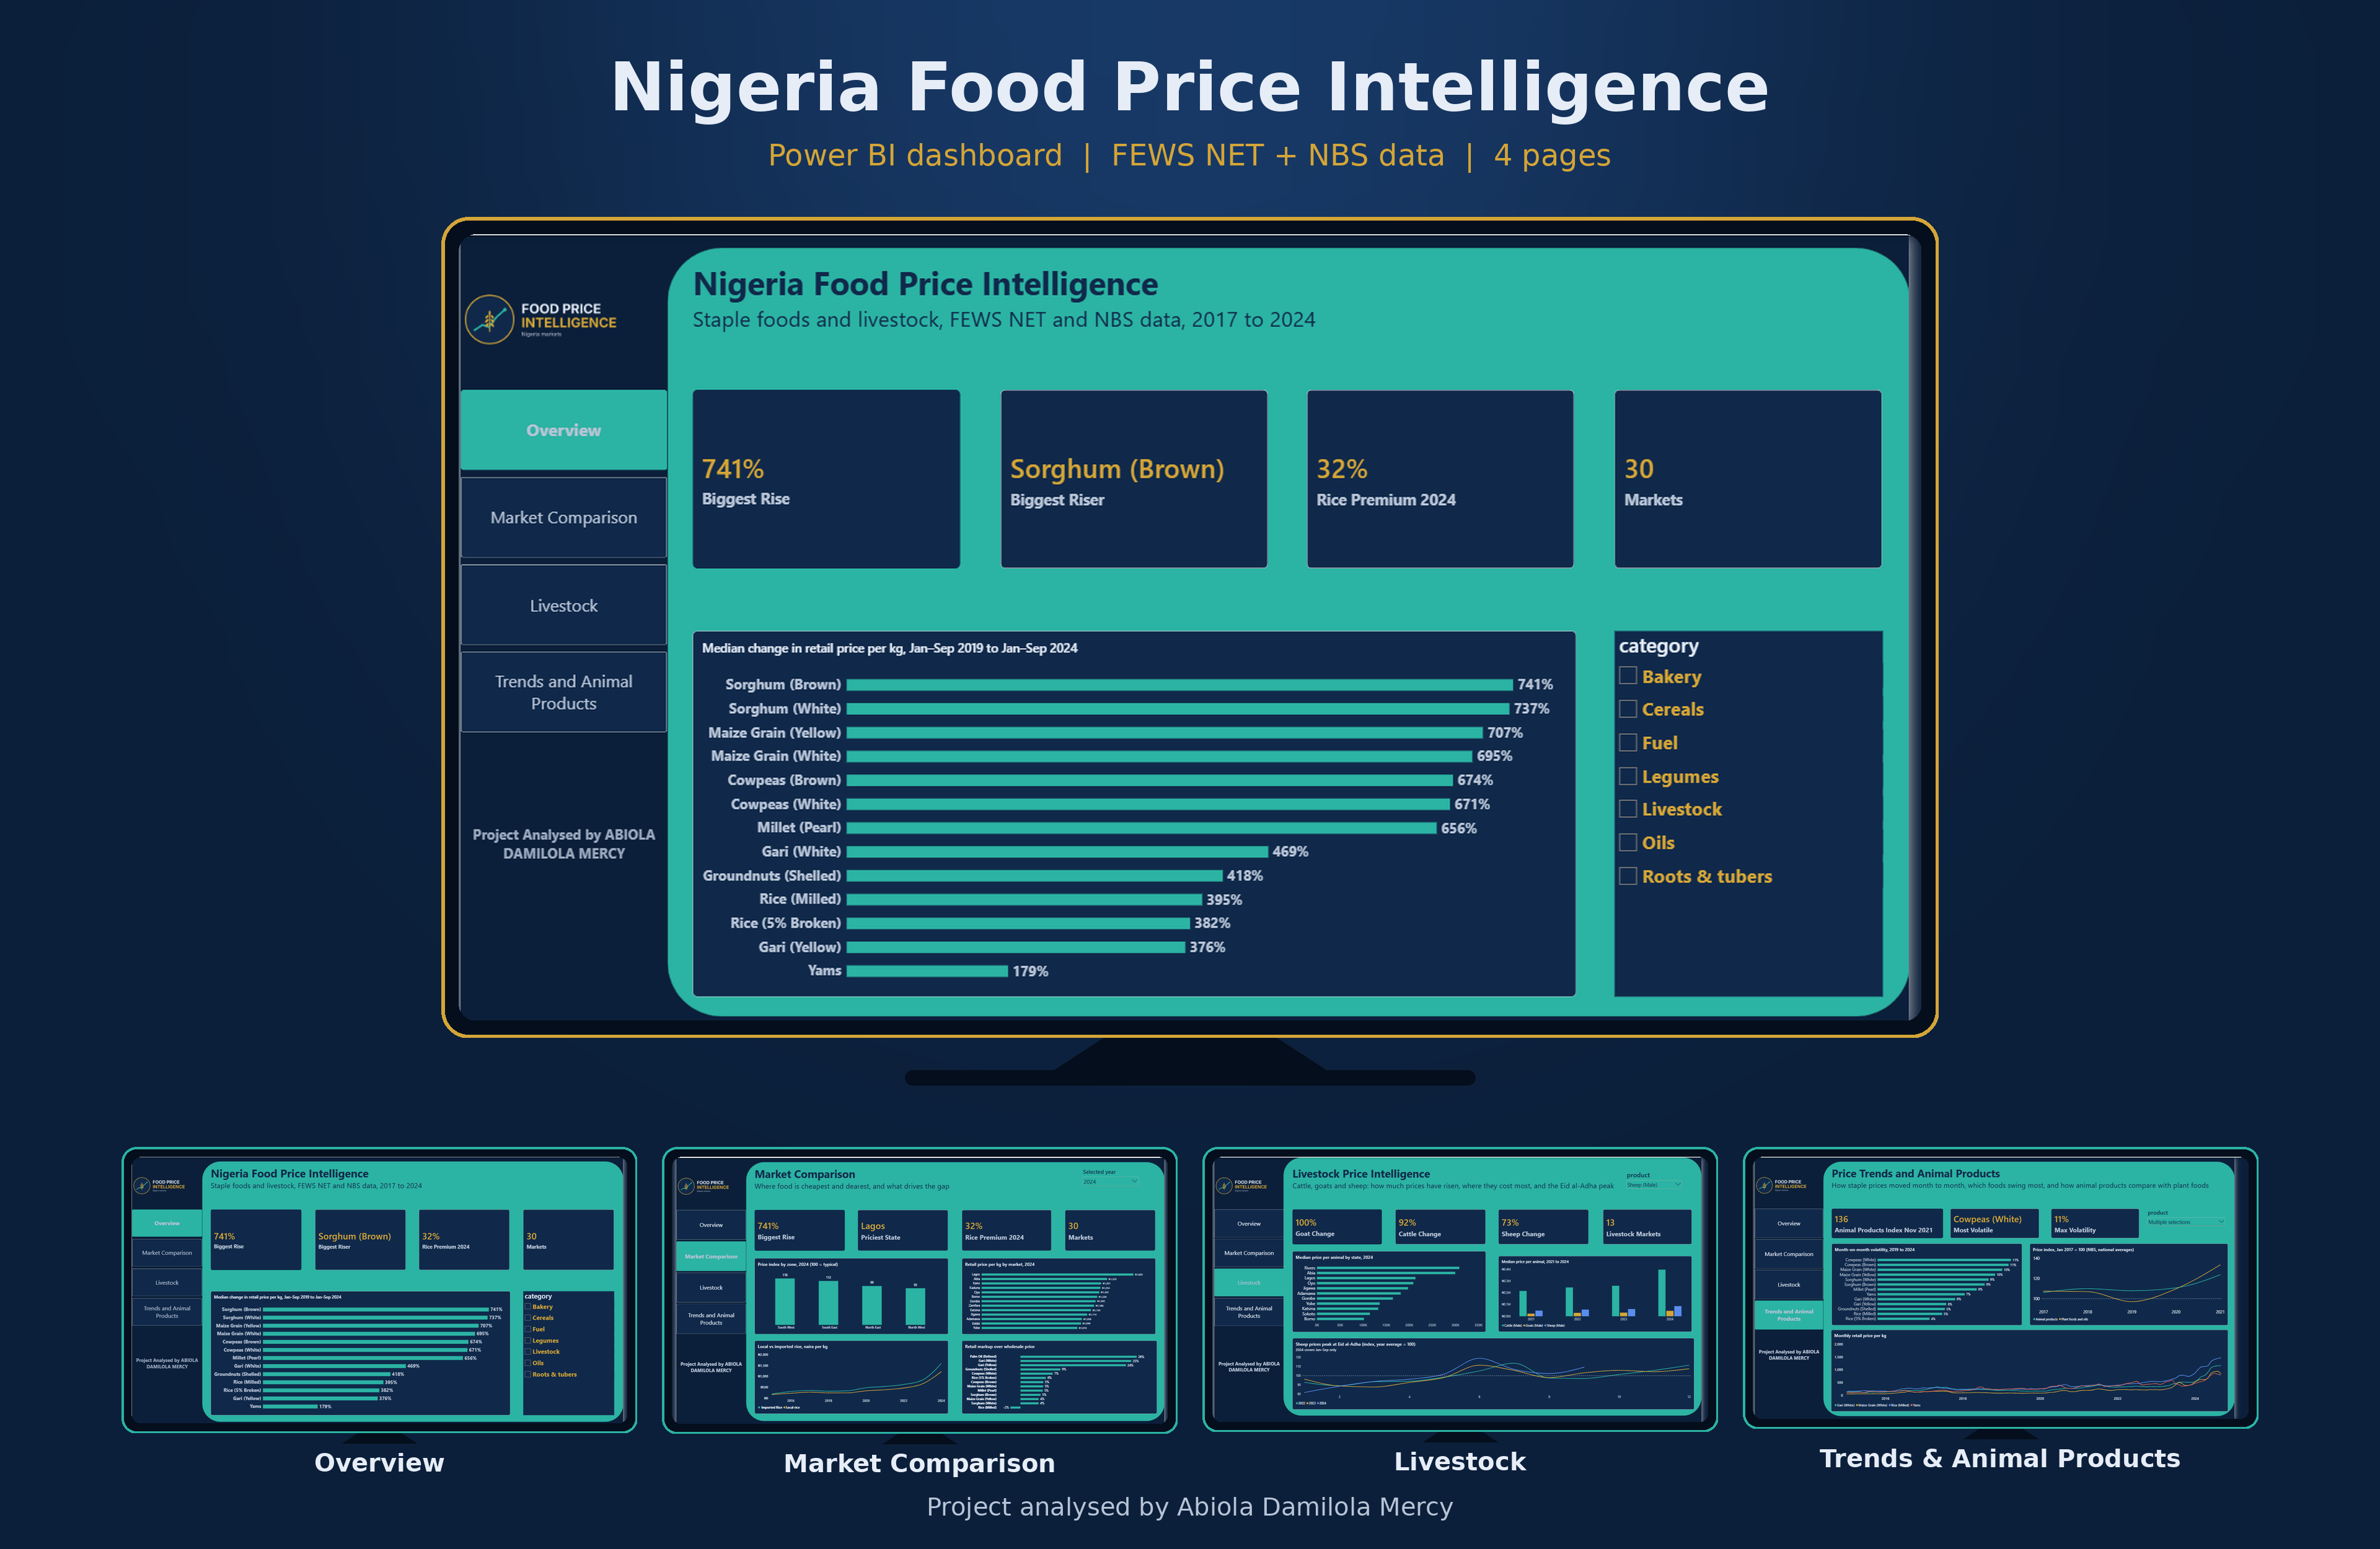

The page's visual inventory and layout, read from the dashboard file:
{"tool":"powerbi","page":{"name":"Overview","canvas":[2520,1380],"ordinal":0},"visuals":[{"type":"shape","box":[359.7,21.3,2161.5,1338.4],"z":0},{"type":"textbox","box":[403.6,44.4,2077.5,181.5],"z":1000},{"type":"clusteredBarChart","title":"Median change in retail price per kg, Jan–Sep 2019 to Jan–Sep 2024","fields":{"Category":["public bi_price_change.product"],"Y":["Sum(public bi_price_change.median_change)"]},"box":[403.6,688.8,1536.8,636.9],"z":2000},{"type":"cardVisual","title":"Biggest rise","fields":{"Data":["FEWS_Prices.Biggest Rise"]},"box":[403.6,270.3,465,311],"z":3000},{"type":"cardVisual","fields":{"Data":["FEWS_Prices.Biggest Riser"]},"box":[938.1,270.3,465,311.1],"z":4000},{"type":"cardVisual","fields":{"Data":["FEWS_Prices.Rice Premium 2024"]},"box":[1472.6,270.3,465,311.1],"z":5000},{"type":"cardVisual","fields":{"Data":["FEWS_Prices.Markets"]},"box":[2007.1,270.3,465,311.1],"z":6000},{"type":"slicer","fields":{"Values":["Dim_Product.category"]},"box":[2007.1,688.8,466.6,636.9],"z":7000},{"type":"pageNavigator","box":[0,270.3,359.2,596.2],"z":8000},{"type":"image","box":[0,21,359,249],"z":9000},{"type":"textbox","box":[0,1027.4,359.7,332.3],"z":10000}]}

Visuals, with their boxes on the page's 2520x1380 design canvas (x1, y1, x2, y2). These are canvas units, not pixel positions in the 2380x1549 screenshot, which may show the page scaled, cropped or inside an application window:
shape: 360/21/2521/1360
textbox: 404/44/2481/226
"Median change in retail price per kg, Jan–Sep 2019 to Jan–Sep 2024" clusteredBarChart: 404/689/1940/1326
"Biggest rise" cardVisual: 404/270/869/581
cardVisual - FEWS_Prices.Biggest Riser: 938/270/1403/581
cardVisual - FEWS_Prices.Rice Premium 2024: 1473/270/1938/581
cardVisual - FEWS_Prices.Markets: 2007/270/2472/581
slicer - Dim_Product.category: 2007/689/2474/1326
pageNavigator: 0/270/359/866
image: 0/21/359/270
textbox: 0/1027/360/1360
